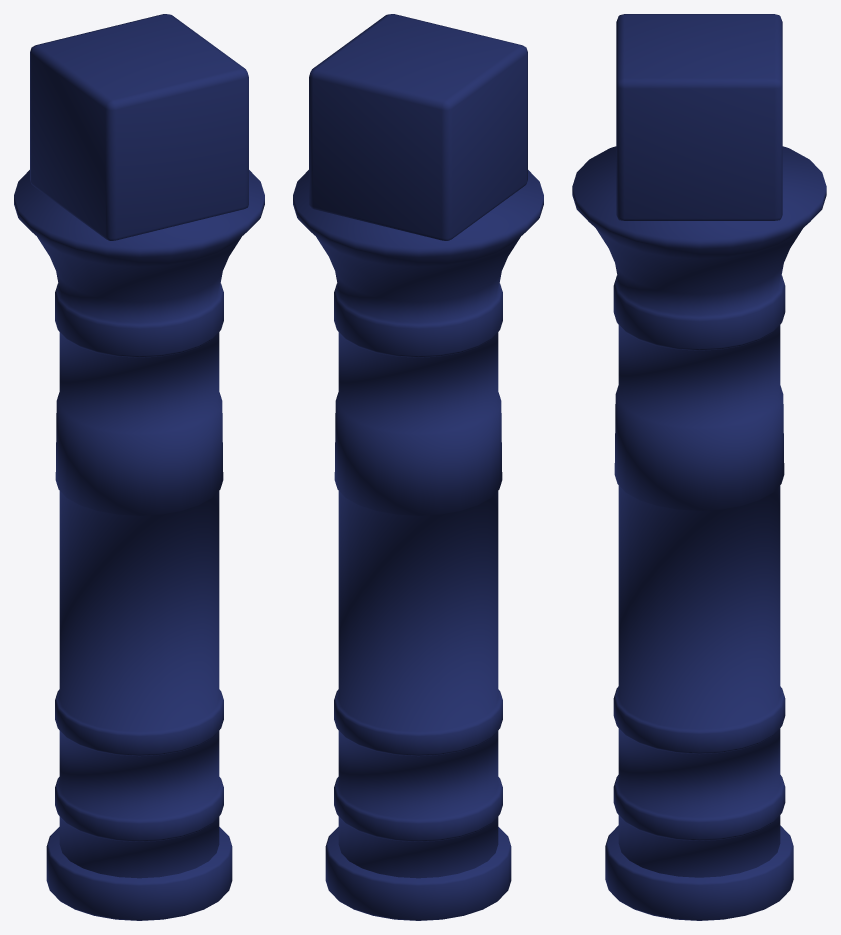
File: pillar3.fbx
3 views of the same model, side by side, from view 1: azimuth 30°, elevation 25°; view 2: azimuth 150°, elevation 25°; view 3: azimuth 270°, elevation 25° (orthographic).
Parts seen in each view (by area): view 1: pillar3_low, pillarbdown_low, pillarcdown_low; view 2: pillar3_low, pillarbdown_low, pillarcdown_low; view 3: pillar3_low, pillarbdown_low, pillarcdown_low.
Part boxes in pixels (x1,y1,x2,y2): pillar3_low: [14, 170, 264, 878]; pillarbdown_low: [30, 14, 248, 240]; pillarcdown_low: [46, 827, 232, 920]; pillar3_low: [293, 170, 543, 878]; pillarbdown_low: [309, 14, 527, 240]; pillarcdown_low: [325, 827, 511, 920]; pillar3_low: [572, 146, 826, 877]; pillarbdown_low: [616, 14, 782, 220]; pillarcdown_low: [605, 825, 793, 920].
Size of the model in its own units: 1514 by 1514 by 5495.
